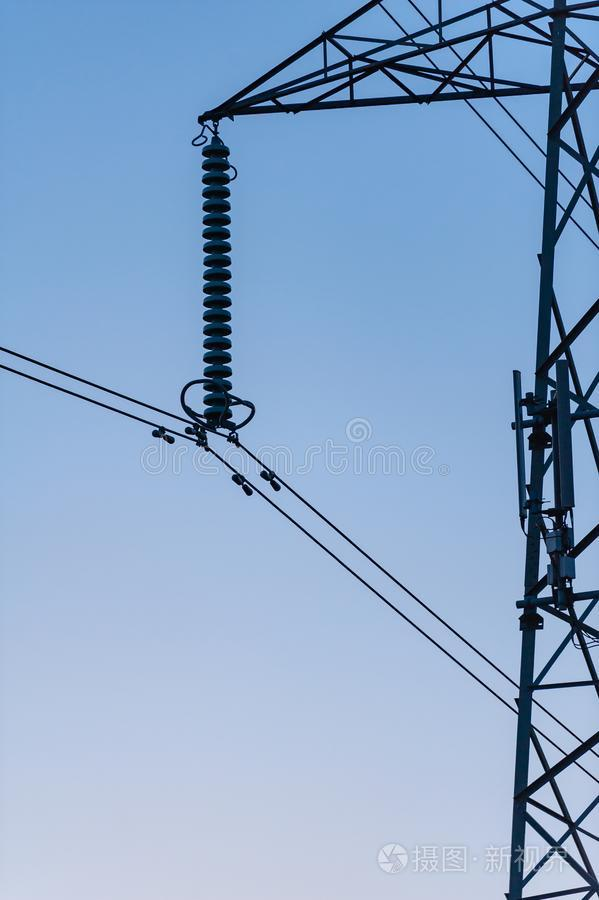insulator: (198, 144, 238, 417)
